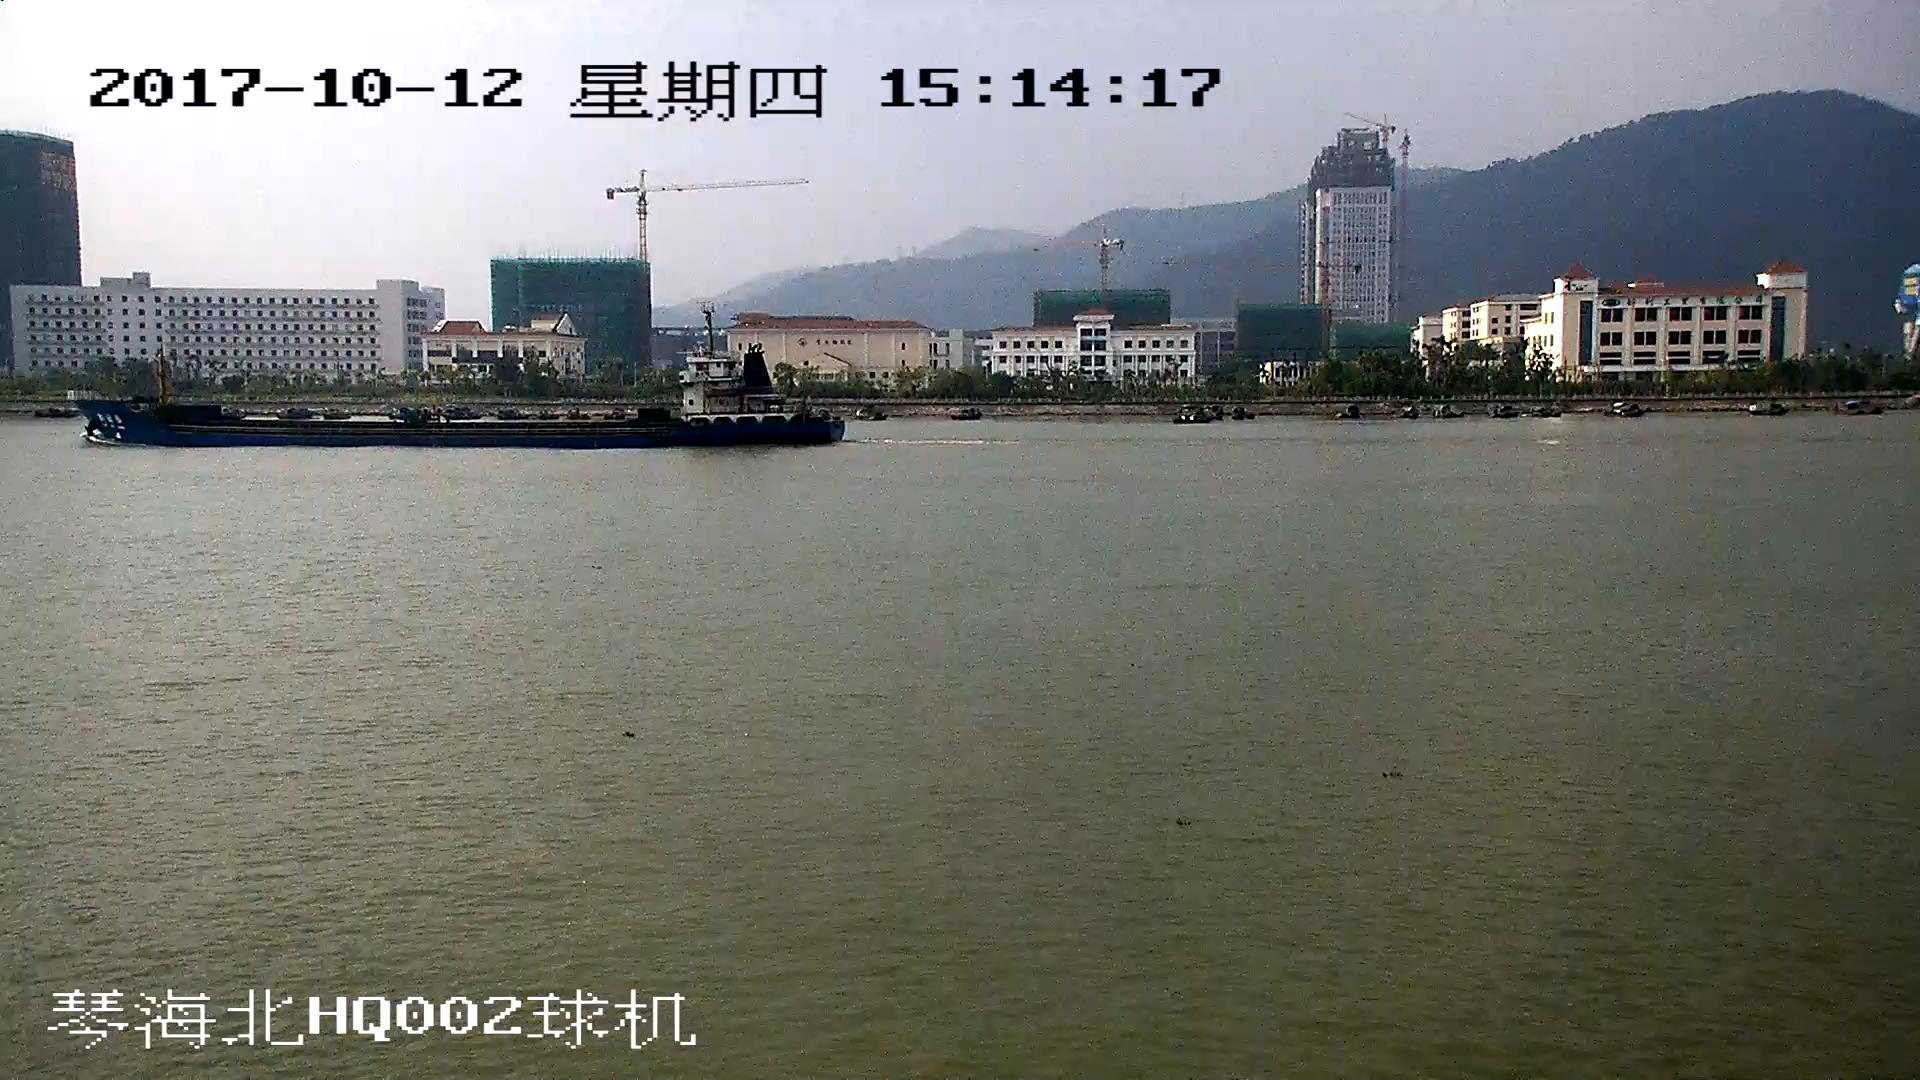general cargo ship: (71, 310, 845, 447)
